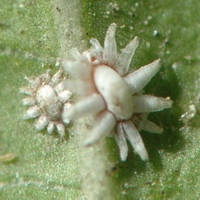insect: (61, 23, 172, 160), (20, 68, 71, 136)
